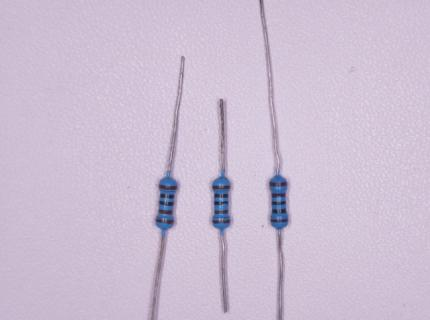Black band: (160, 194, 175, 199), (159, 201, 174, 206), (214, 201, 229, 206), (214, 193, 229, 198), (272, 201, 287, 206), (272, 209, 287, 214)
Brown band: (158, 184, 178, 191), (155, 218, 174, 225), (269, 182, 287, 187), (212, 185, 230, 190), (159, 209, 172, 215), (214, 210, 229, 215), (271, 219, 289, 223), (212, 220, 230, 224), (272, 193, 286, 198)
